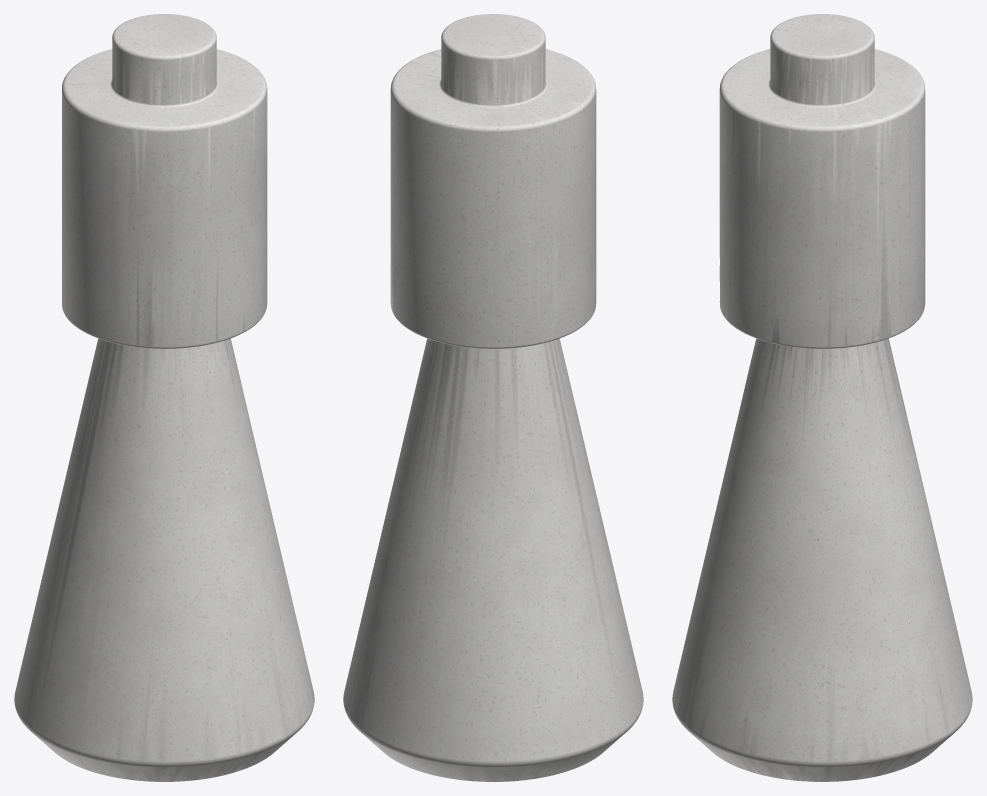
File: king-white-hd.glb
3 renders of one model, left to right at view 1: azimuth 30°, elevation 25°; view 2: azimuth 150°, elevation 25°; view 3: azimuth 270°, elevation 25°, orthographic.
Visible parts, largest first — view 1: 04_kral_bila; view 2: 04_kral_bila; view 3: 04_kral_bila.
Part boxes in pixels (bbox=[...]): 04_kral_bila: bbox=[14, 14, 314, 781]; 04_kral_bila: bbox=[343, 14, 643, 781]; 04_kral_bila: bbox=[672, 14, 972, 781].
Bounding box in the file's own units: 0.6173 × 1.58 × 0.6173.
1 material, 1 textured.
